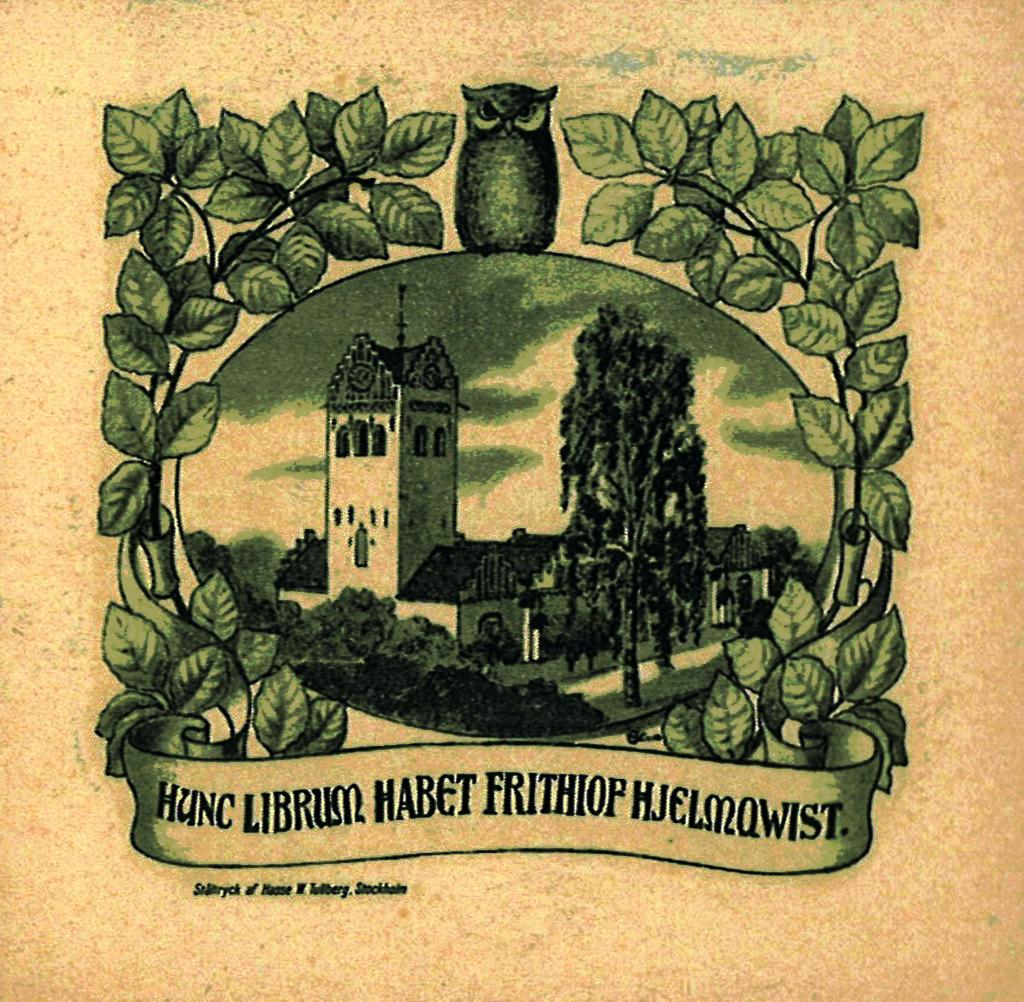Owl: (454, 78, 569, 269)
